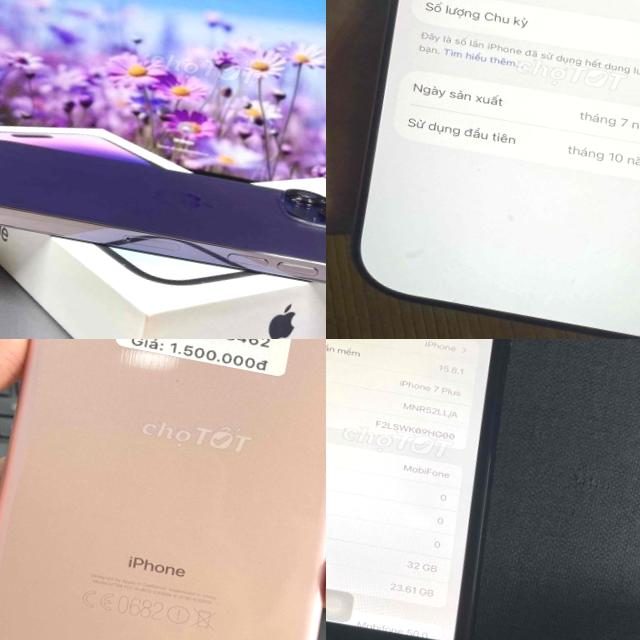gen_14: (0, 138, 326, 284)
gen_16: (358, 0, 640, 339)
gen_7_8: (0, 339, 326, 640), (326, 339, 548, 640)
scratch: (170, 366, 193, 392)
